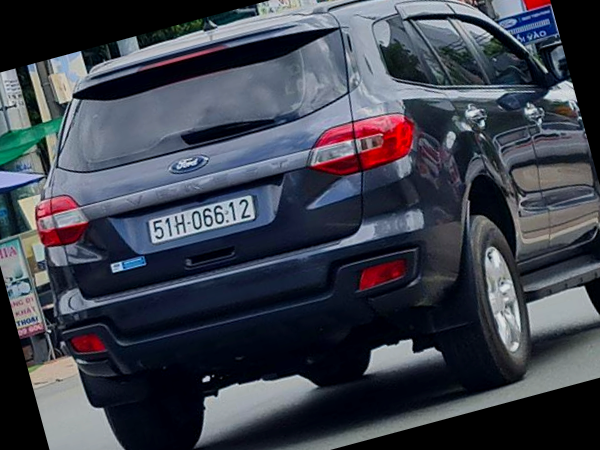lisence: (148, 195, 256, 245)
